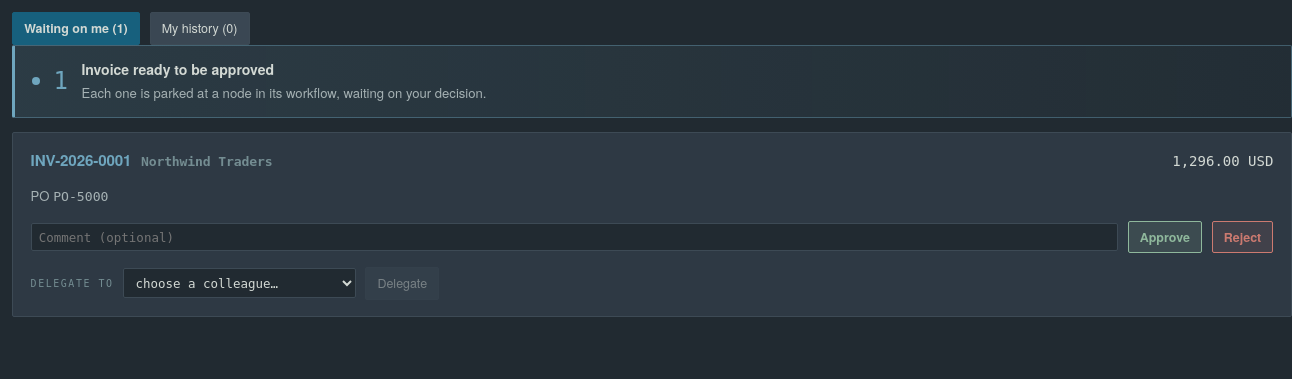
it: when the server refuses › NEVER CLAIMS AN APPROVAL THAT DID NOT HAPPEN
Click the button "Approve" at (1165, 237), box 1128,221 -> 1202,254
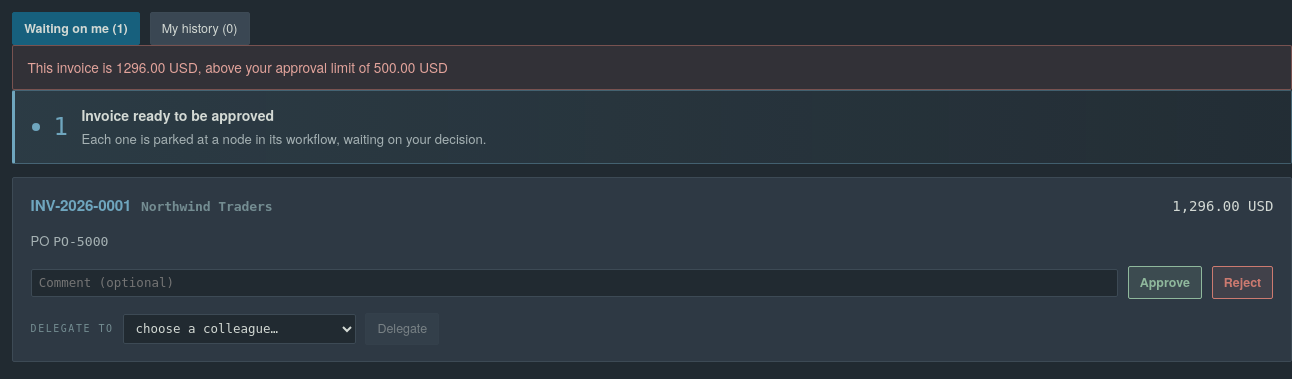
expect the link "INV-2026-0001" is shown: met, box 31,194 -> 131,216
expect the text "above your approval limit of 500.00 USD" is shown: met, box 27,57 -> 448,77
